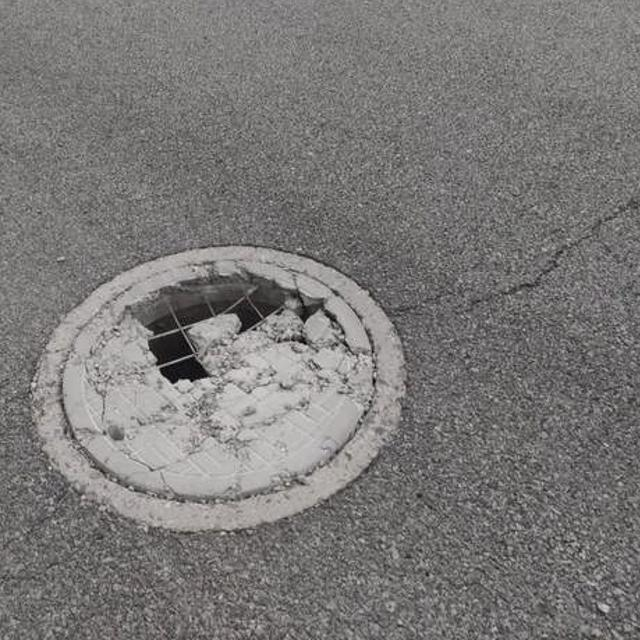broke: (20, 233, 416, 544)
